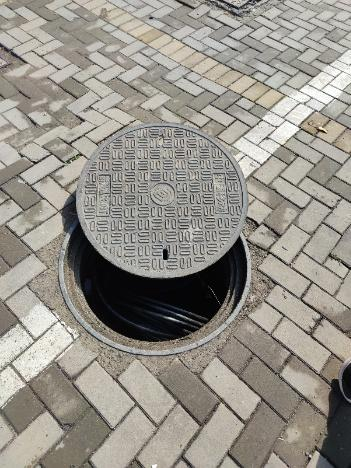wellcover: (64, 120, 252, 359)
